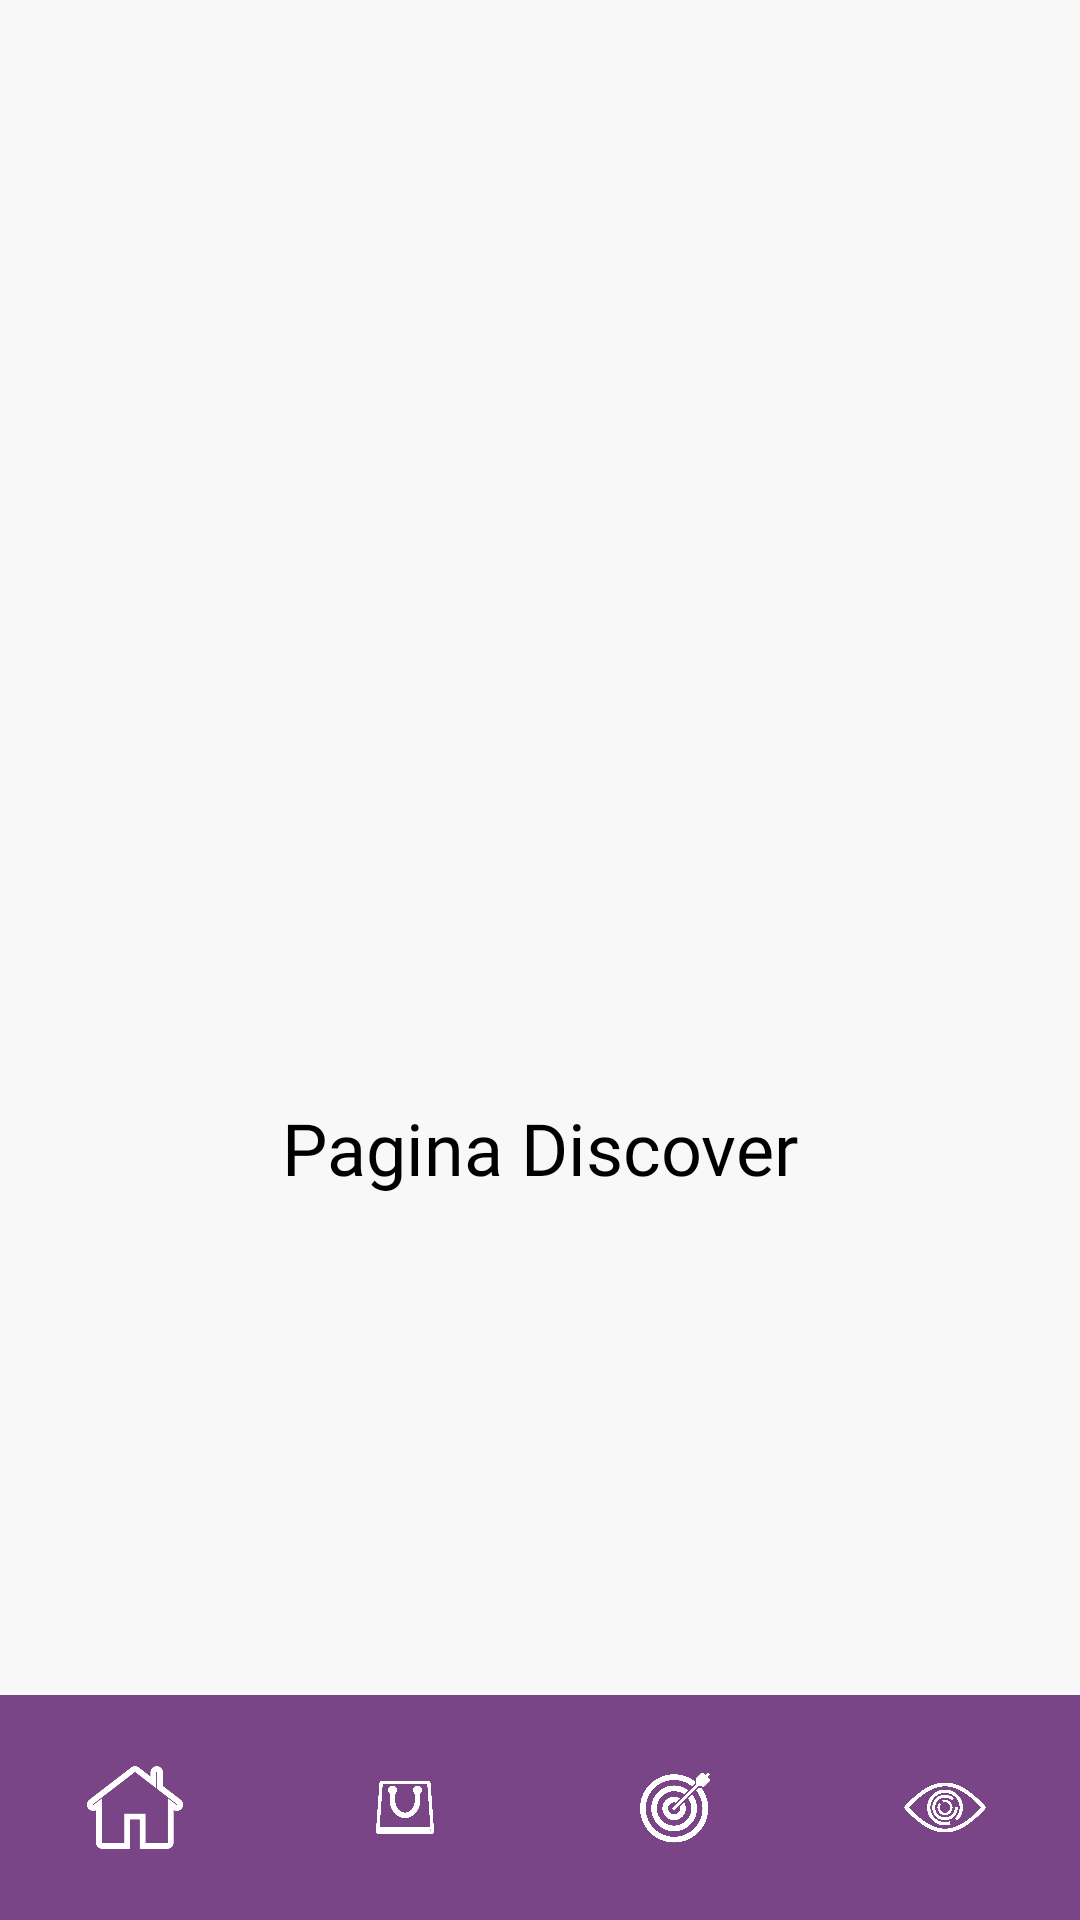

Locate icon controls on the screen. Image size 1080 x 1920, boxes as (left=x1, top=y1, right=x2, bottom=y2).
Goals: (left=640, top=1773, right=710, bottom=1843)
Home: (left=87, top=1766, right=183, bottom=1849)
